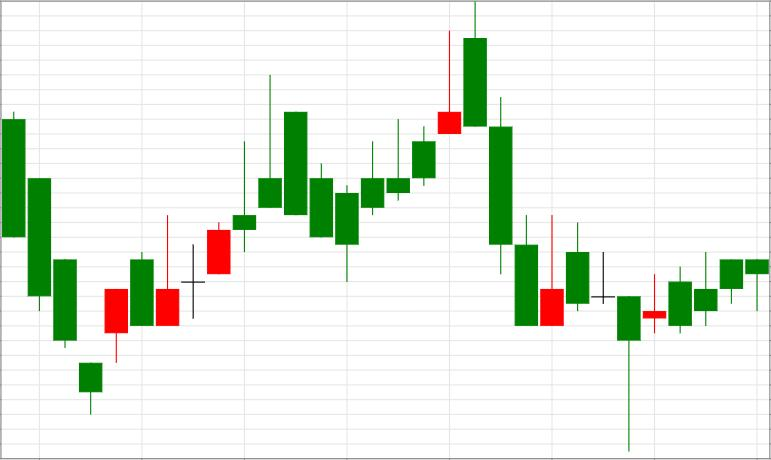hammer_rise: (463, 2, 640, 453)
three_black_crows_fall: (336, 1, 537, 327)
